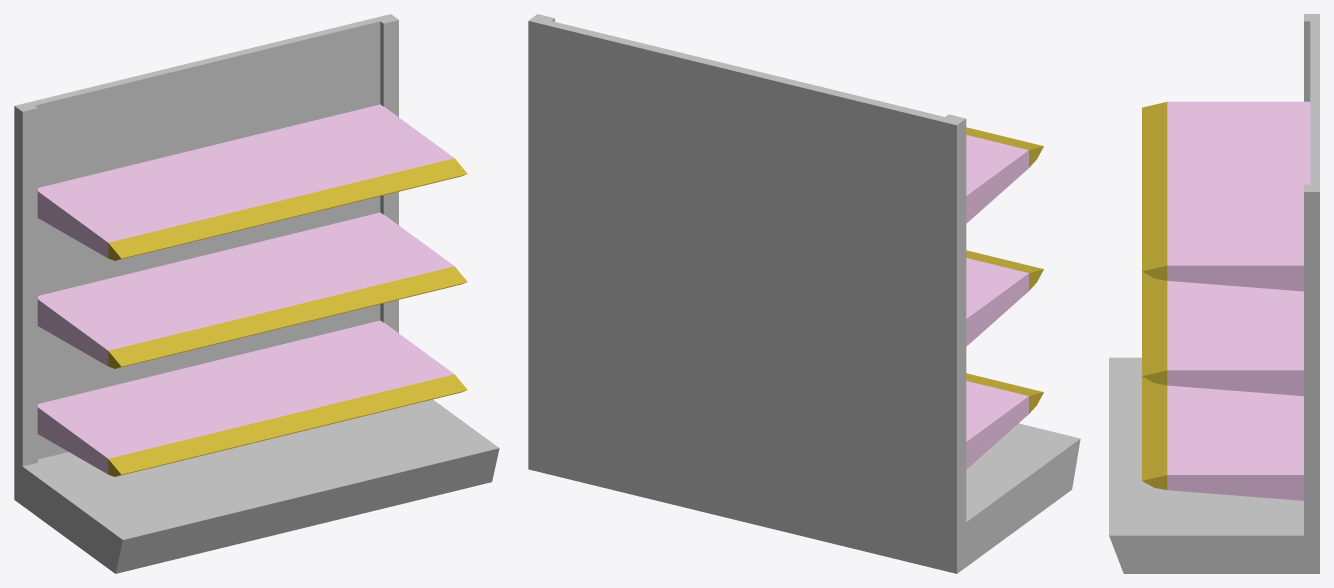
File: Shelf01.fbx
3 views of the same model, side by side, from view 1: azimuth 30°, elevation 25°; view 2: azimuth 150°, elevation 25°; view 3: azimuth 270°, elevation 25° (orthographic). The views are drawn at different scales.
Visible parts, largest first — view 1: Base; view 2: Base; view 3: Base.
Part boxes in pixels (left/top/right/bottom): Base: left=14, top=14, right=499, bottom=573; Base: left=528, top=14, right=1080, bottom=573; Base: left=1109, top=14, right=1319, bottom=573.
Bounding box in the file's own units: 200 × 200 × 100.
